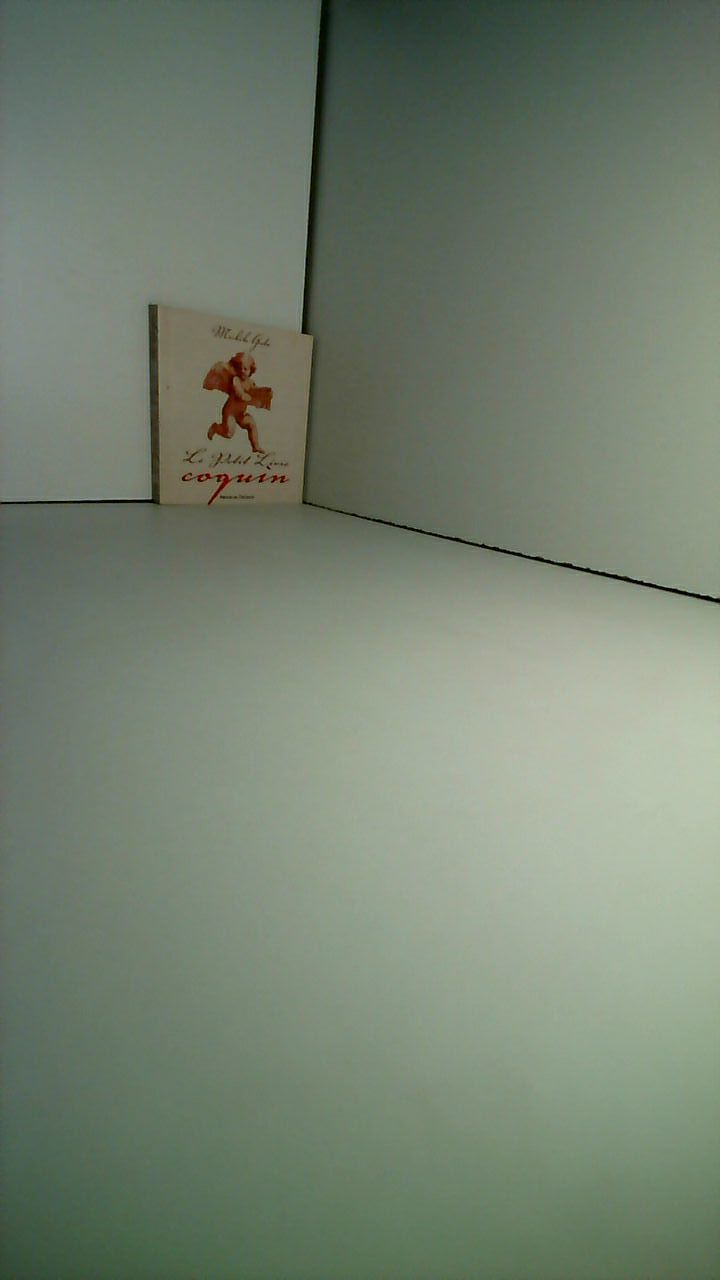book: (118, 277, 351, 553)
